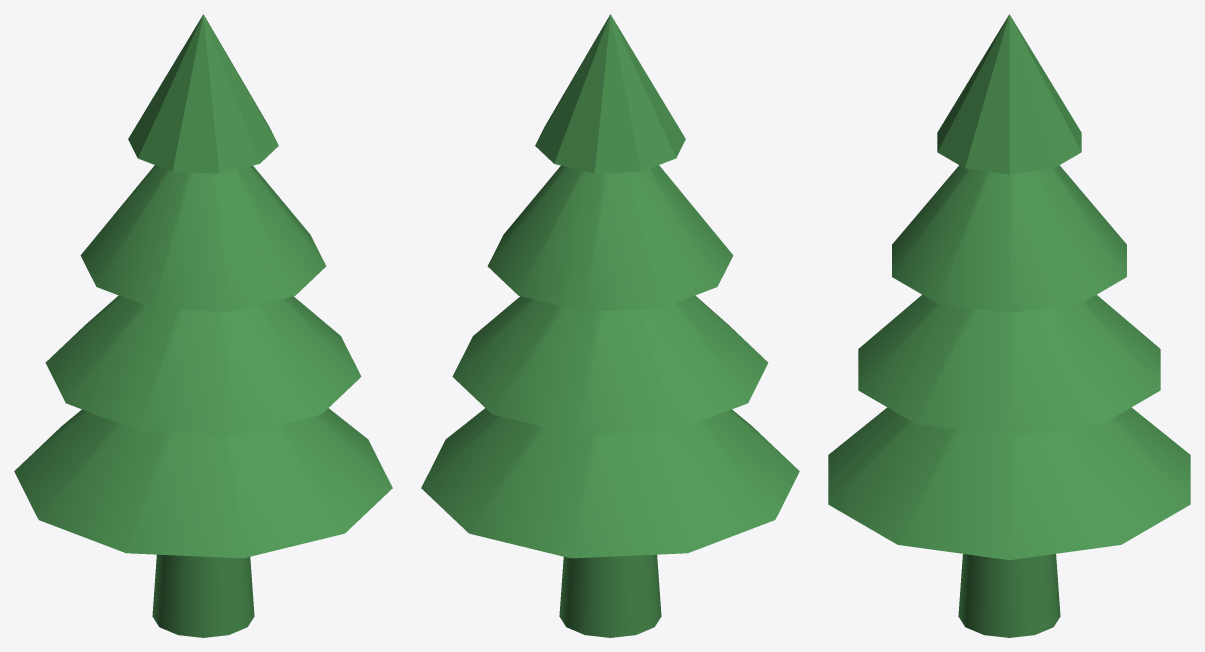
Rendered from pinoAdulto.fbx.
The picture shows the model from 3 angles, left to right: view 1: azimuth 30°, elevation 25°; view 2: azimuth 150°, elevation 25°; view 3: azimuth 270°, elevation 25°; orthographic projection.
Visible parts, largest first — view 1: pCylinder7; view 2: pCylinder7; view 3: pCylinder7.
Boxes of the visible parts, x1,y1,x2,y2 form: pCylinder7: (14, 14, 392, 637); pCylinder7: (421, 14, 799, 637); pCylinder7: (828, 14, 1190, 637).
Bounding box in the file's own units: 2.79 × 4.86 × 2.65.
